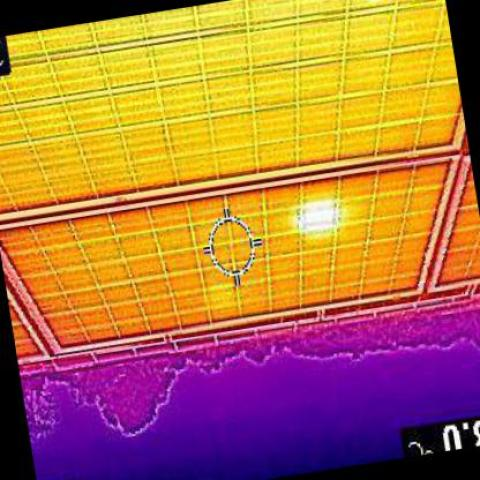fault: (302, 203, 334, 225)
